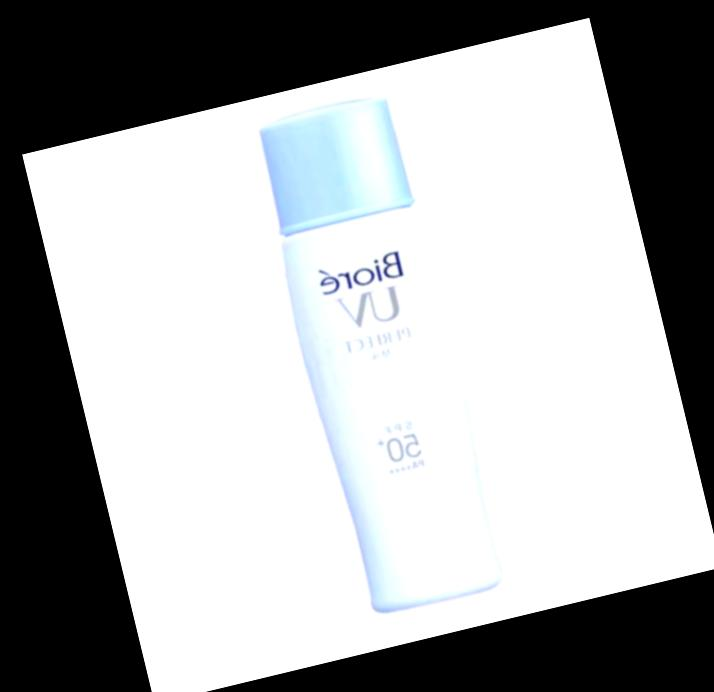cosmetic: (237, 89, 518, 620)
